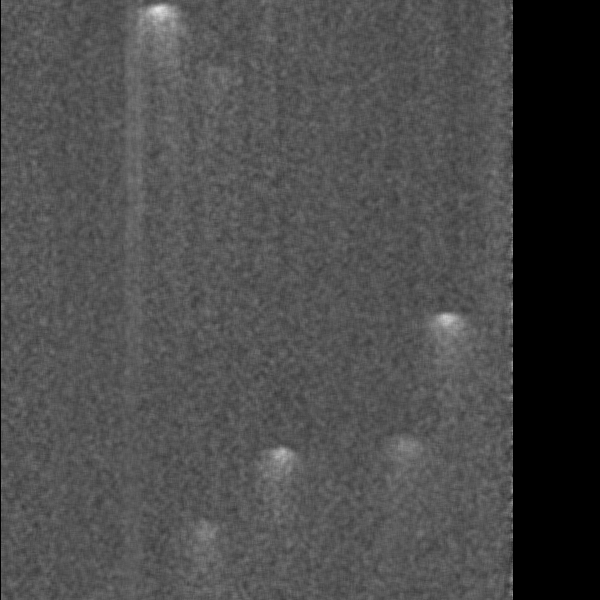spark: (134, 1, 190, 70), (381, 431, 433, 482), (426, 309, 466, 373), (261, 441, 293, 504), (181, 519, 215, 547)
